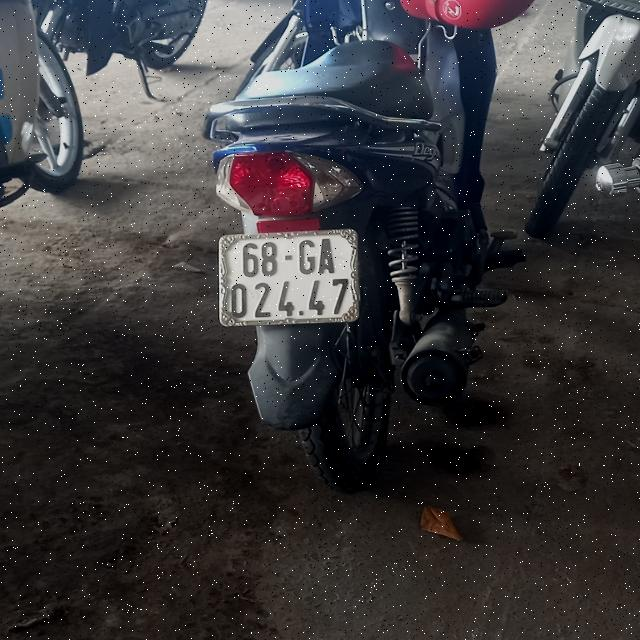0: (230, 282, 246, 316)
2: (255, 283, 271, 317)
4: (309, 280, 325, 316), (280, 281, 294, 317)
6: (241, 243, 258, 276)
7: (332, 279, 348, 314)
8: (261, 242, 278, 277)
A: (318, 239, 336, 274)
G: (299, 240, 315, 274)
